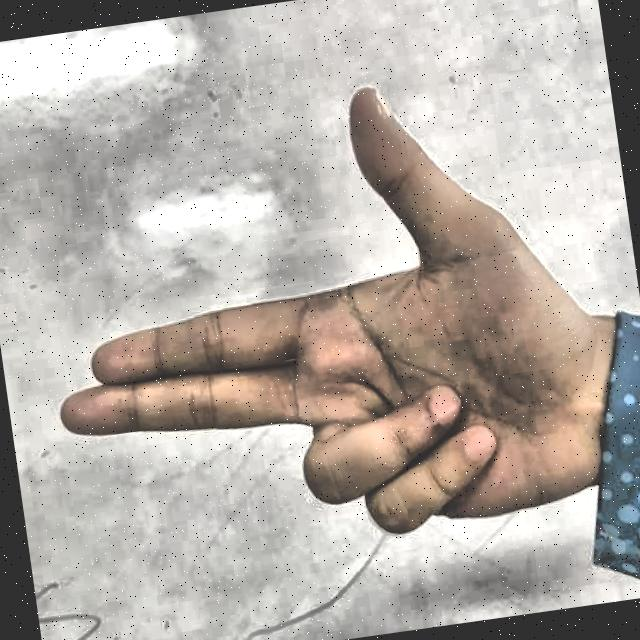Jha: (0, 13, 636, 640)
